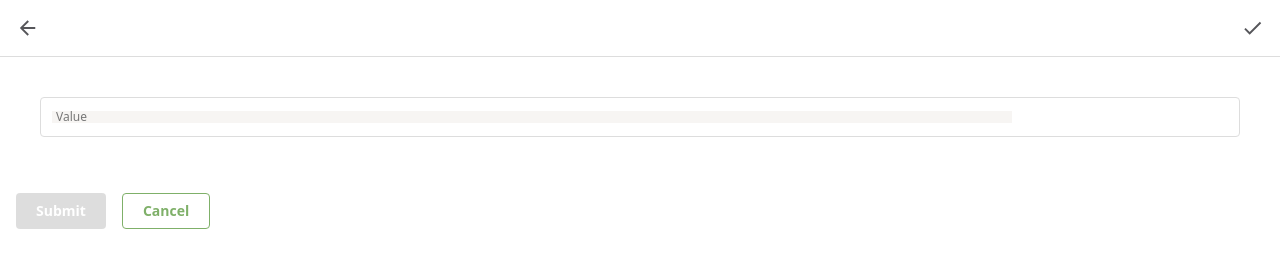
Test case: FormBase › submission › shows validation error and does not submit when validator fails
The width and height of the screenshot is (1280, 260).
Step 1. Click the 2nd button → (1252, 28), box [1241, 16, 1264, 40]
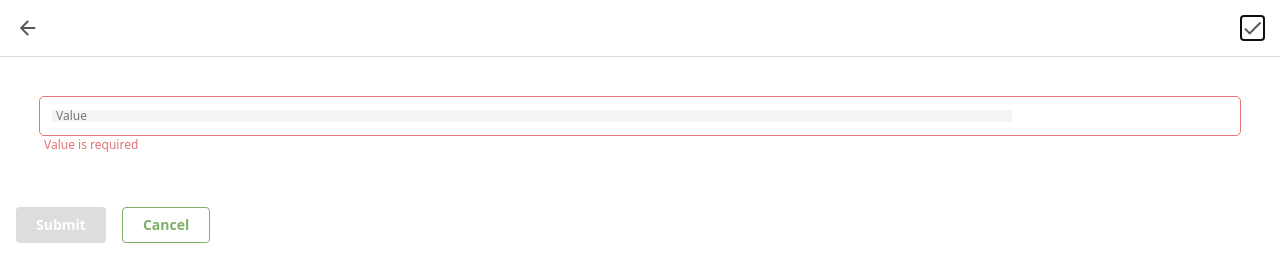
Expected: the text "Value is required" is shown, [44, 136, 138, 153]
